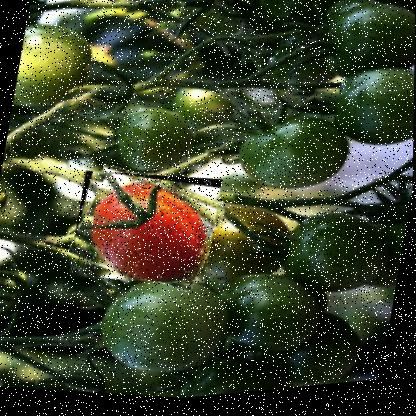tomato: (68, 160, 227, 299)
